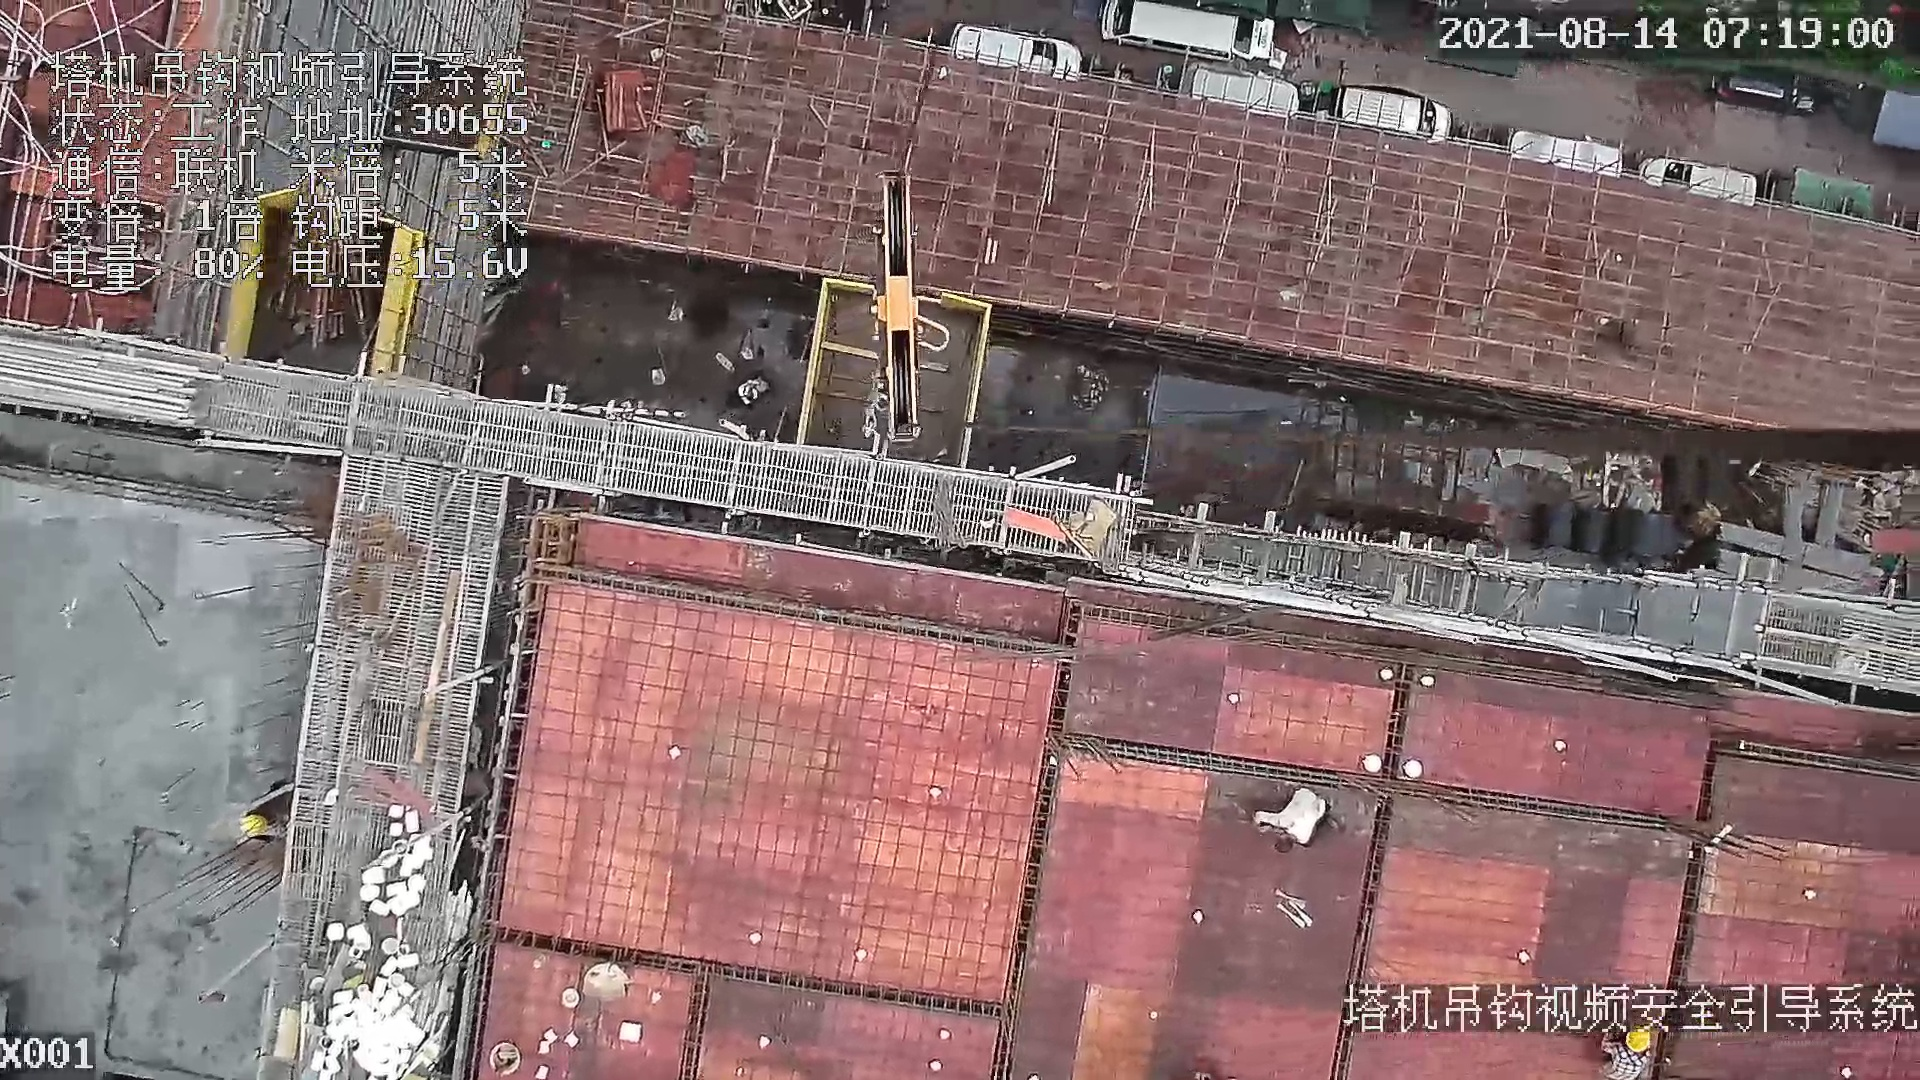helmet: (1623, 1023, 1649, 1050)
hook: (863, 164, 959, 446)
person: (1256, 781, 1323, 856), (1595, 1023, 1664, 1078)
